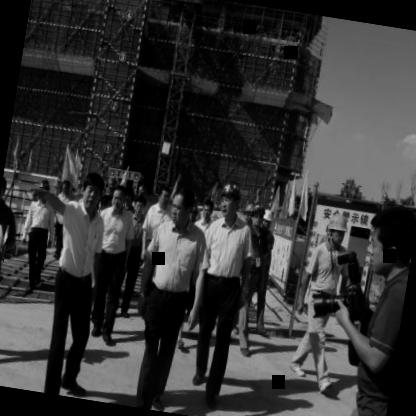head: (362, 199, 416, 282), (167, 184, 199, 230), (77, 169, 108, 216), (110, 184, 128, 211), (154, 185, 172, 211), (198, 195, 214, 224), (130, 195, 147, 219), (0, 173, 9, 209)
helmet: (322, 206, 352, 252), (216, 176, 244, 222), (31, 176, 53, 204), (249, 200, 266, 230), (259, 206, 276, 233), (239, 200, 254, 227)
